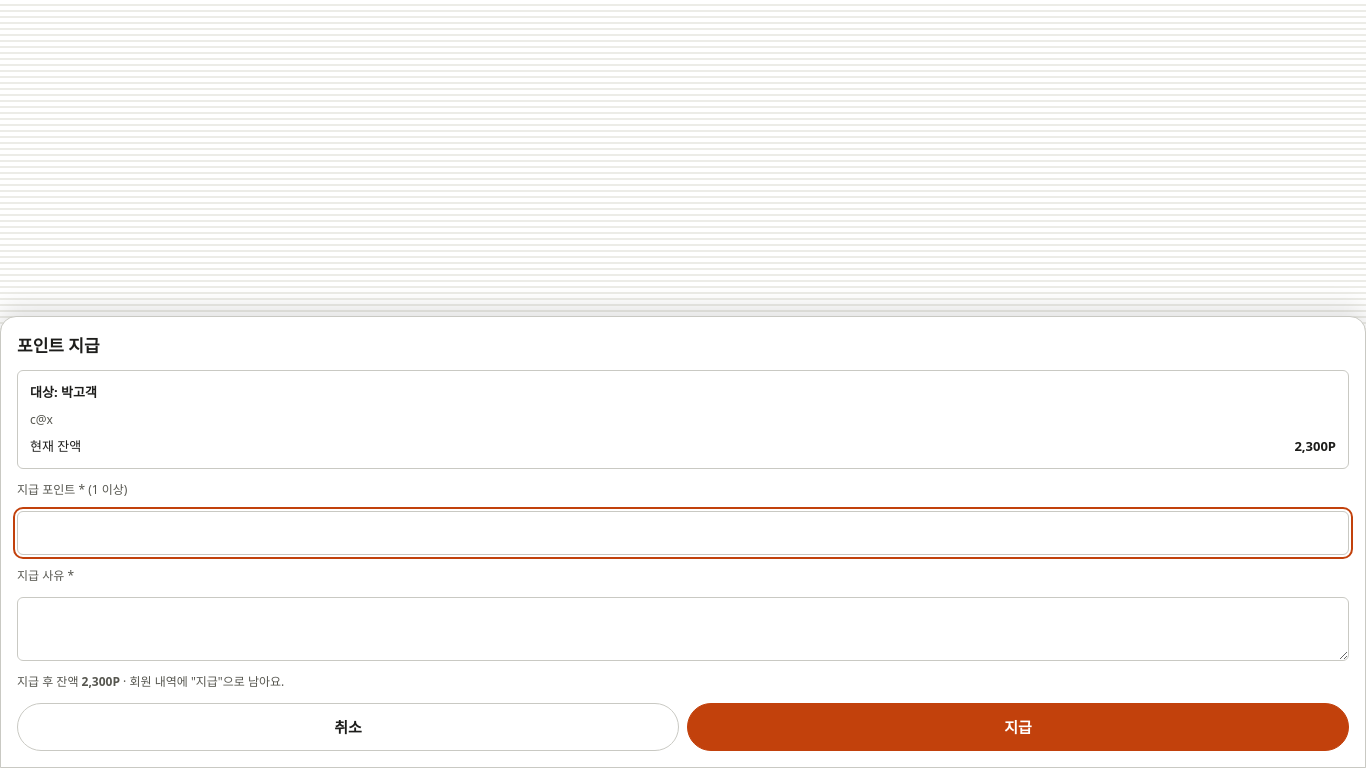
Scenario: PointGrantSheet (M4) › 금액이 1 미만이면 보내지 않는다
This screenshot has width=1366, height=768.
Type "0" into the field labelled "지급 포인트 * (1 이상)". click: (683, 533)
box: [17,511,1349,555]
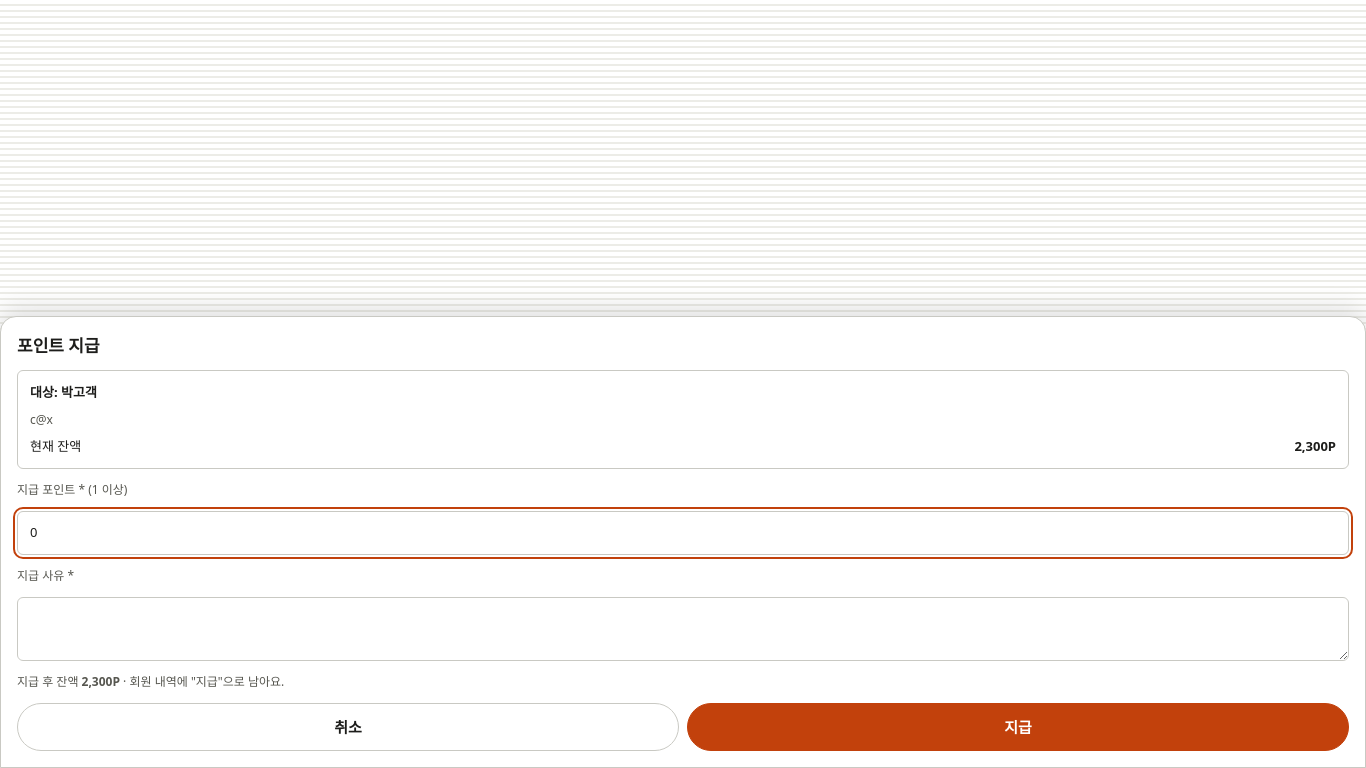
Type "보상" into the text box labelled "지급 사유 *". click: (683, 629)
box: [17,597,1349,661]
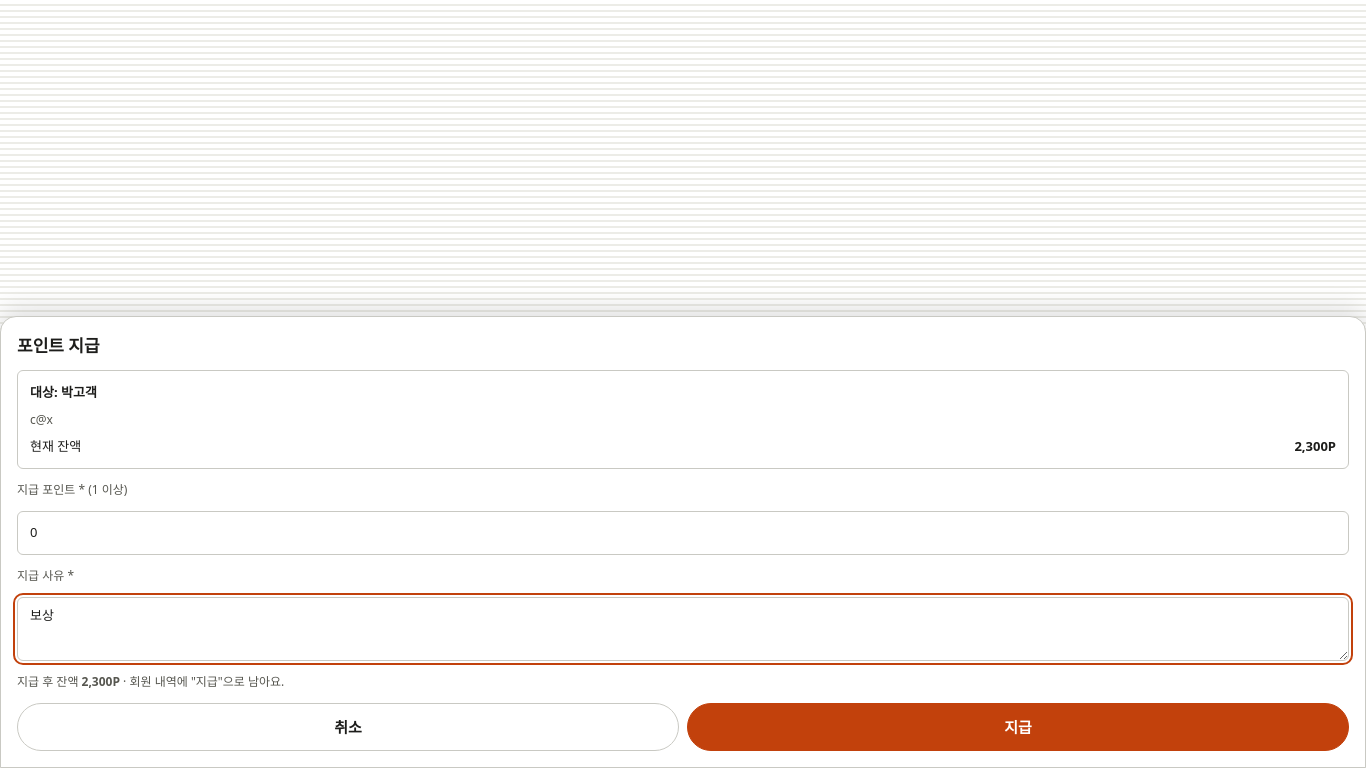
Click the button "지급". click: (1018, 727)
box: [687,703,1349,751]
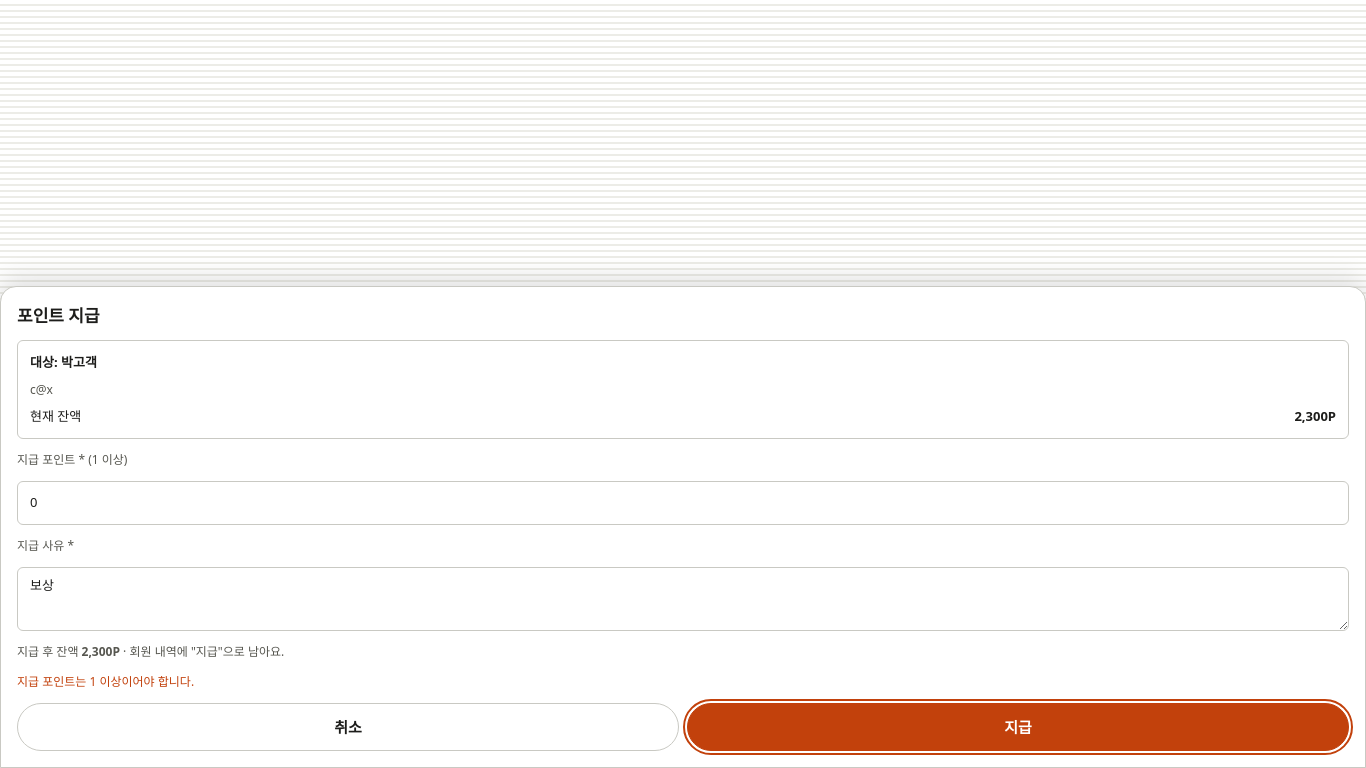
Result: the message reads "지급 포인트는 1 이상이어야 합니다." at [17,673,194,690]
